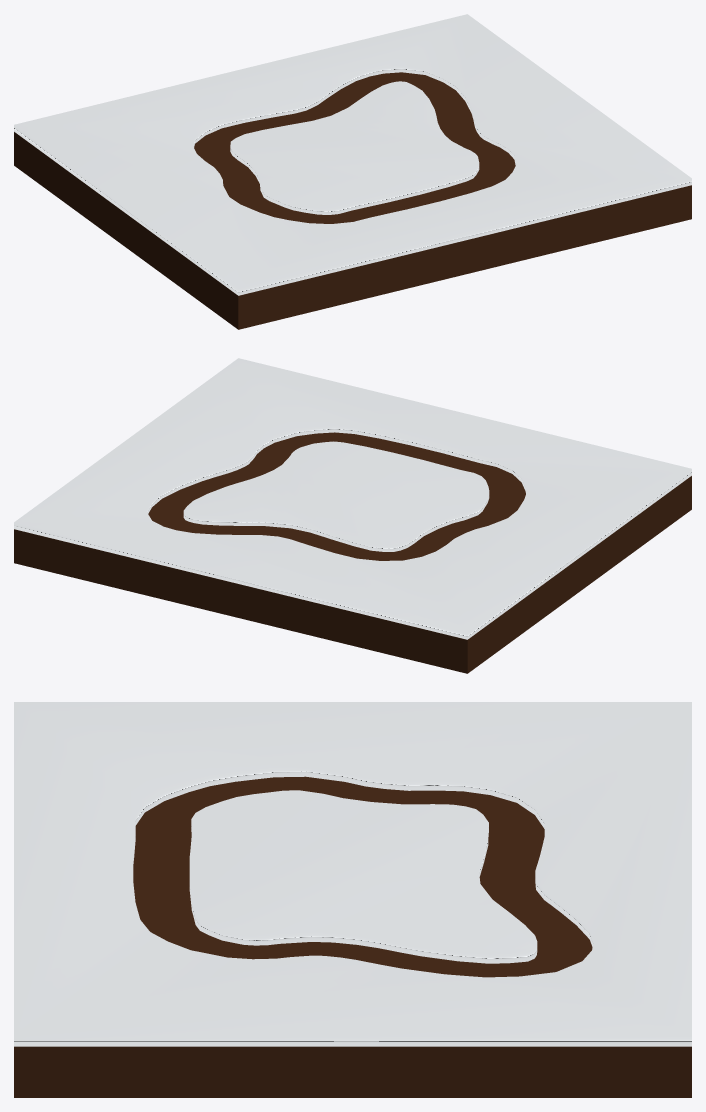
File: snowscene.glb
The picture shows the model from 3 angles, top to bottom: view 1: azimuth 30°, elevation 25°; view 2: azimuth 150°, elevation 25°; view 3: azimuth 270°, elevation 25°; orthographic projection. The views are drawn at different scales.
Visible parts, largest first — view 1: Cube.001, Cube; view 2: Cube.001, Cube; view 3: Cube.001, Cube.
Part boxes in pixels (left/top/right/bottom): Cube.001: left=14, top=14, right=691, bottom=295; Cube: left=14, top=72, right=691, bottom=329; Cube.001: left=14, top=358, right=691, bottom=639; Cube: left=14, top=432, right=691, bottom=673; Cube.001: left=14, top=702, right=691, bottom=1046; Cube: left=14, top=776, right=691, bottom=1097.
Bounding box in the file's own units: 70 × 6.02 × 60.
